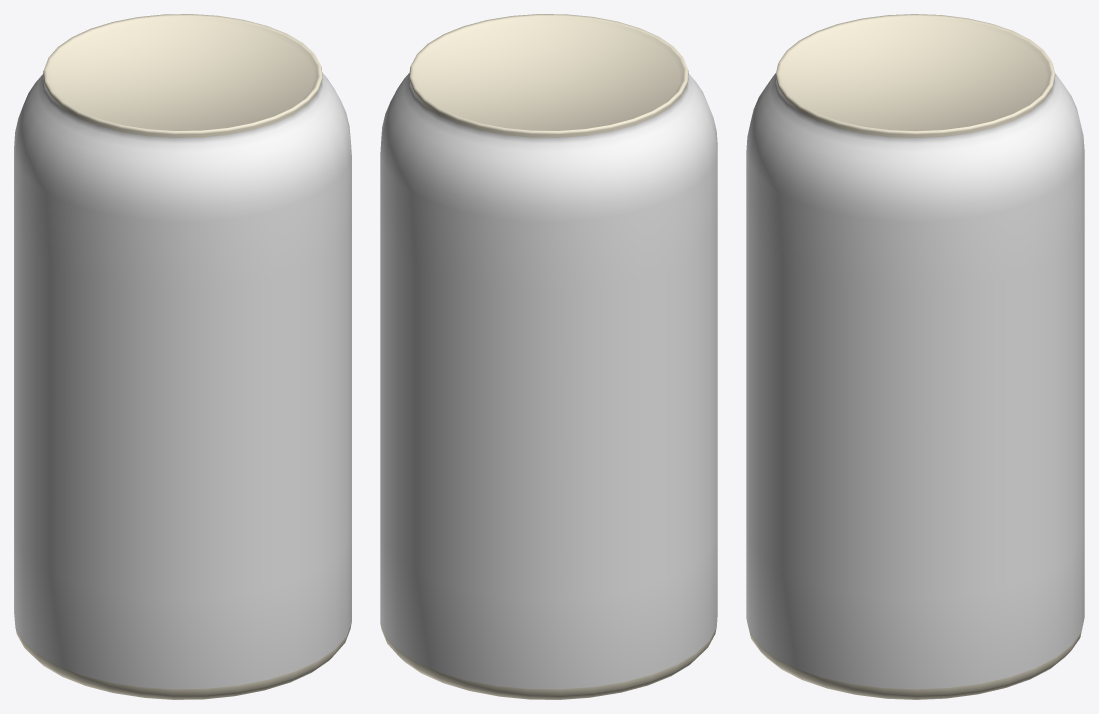
File: poppio-can.glb
3 views of the same model, side by side, from view 1: azimuth 30°, elevation 25°; view 2: azimuth 150°, elevation 25°; view 3: azimuth 270°, elevation 25° (orthographic).
Parts seen in each view (by area): view 1: POPPIO_Can; view 2: POPPIO_Can; view 3: POPPIO_Can.
Part boxes in pixels (x1,y1,x2,y2): POPPIO_Can: (14, 14, 351, 699); POPPIO_Can: (380, 14, 717, 699); POPPIO_Can: (746, 14, 1084, 699).
Size of the model in its own units: 0.66 by 1.22 by 0.66.
Materials: 2 (1 with a texture image).
